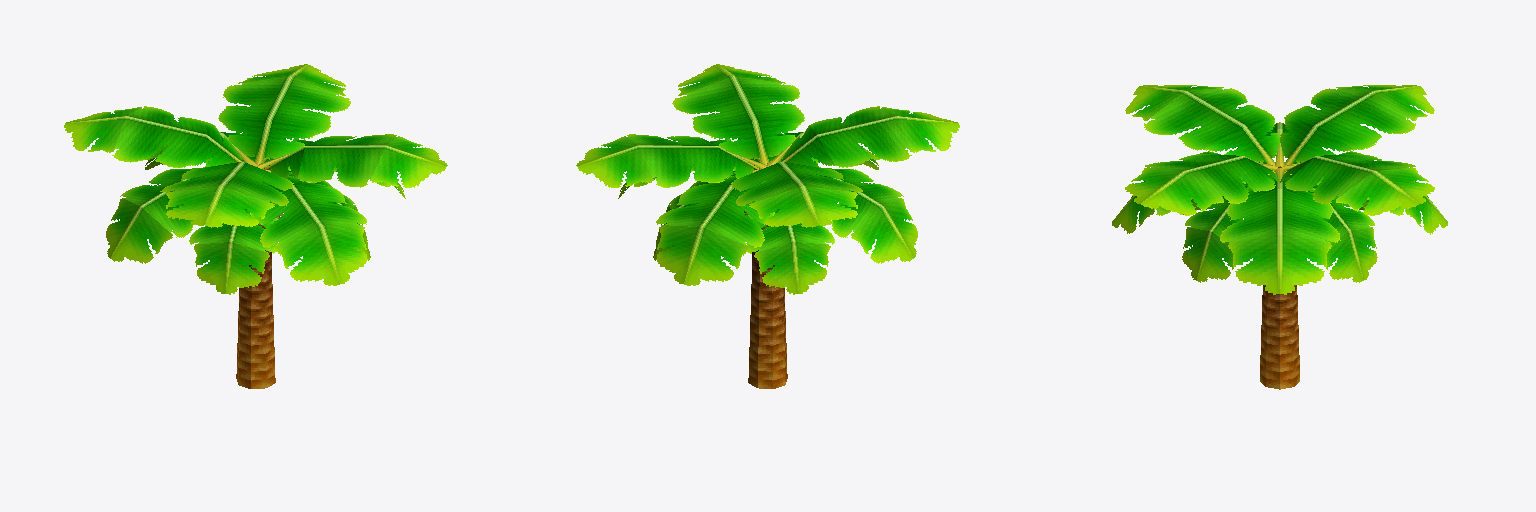
The picture shows the model from 3 angles: view 1: azimuth 30°, elevation 25°; view 2: azimuth 150°, elevation 25°; view 3: azimuth 270°, elevation 25°; orthographic projection.
Parts seen in each view (by area): view 1: palmtree; view 2: palmtree; view 3: palmtree.
Boxes of the visible parts, x1,y1,x2,y2 form: palmtree: [64, 64, 447, 388]; palmtree: [576, 64, 959, 388]; palmtree: [1112, 85, 1447, 389].
Bounding box in the file's own units: 319 × 244 × 319.
3 materials, 3 textured.